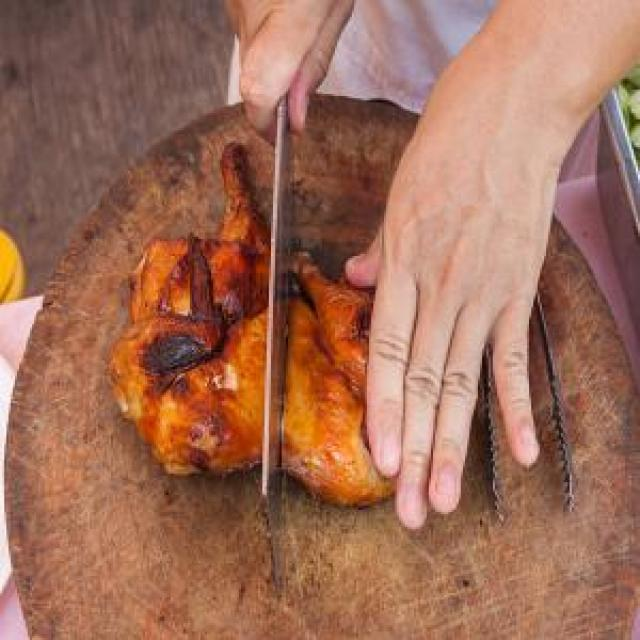knife: (258, 90, 301, 582)
